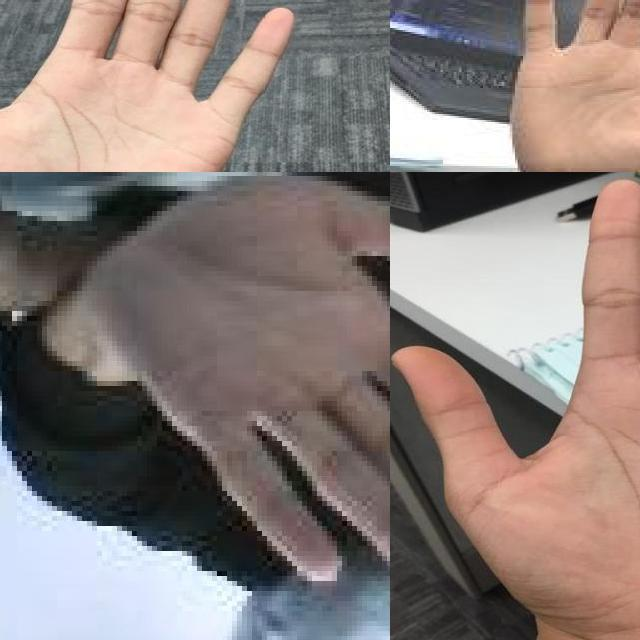no-gloves: (72, 172, 390, 606), (390, 172, 640, 640), (0, 0, 293, 172), (509, 0, 640, 172)
